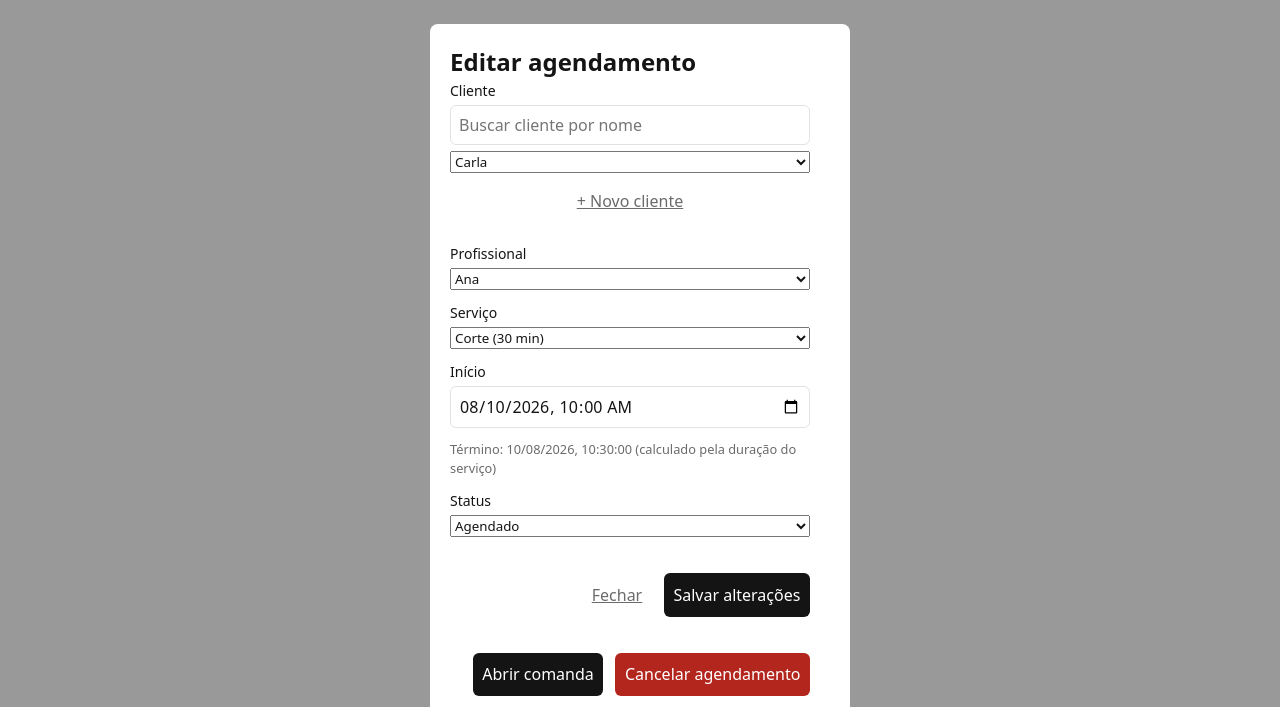
it: AppointmentModal › maps a version_conflict response to a Portuguese message
Select "Confirmado" in the dropdown labelled "Status" at (630, 526), box [450, 515, 810, 537]
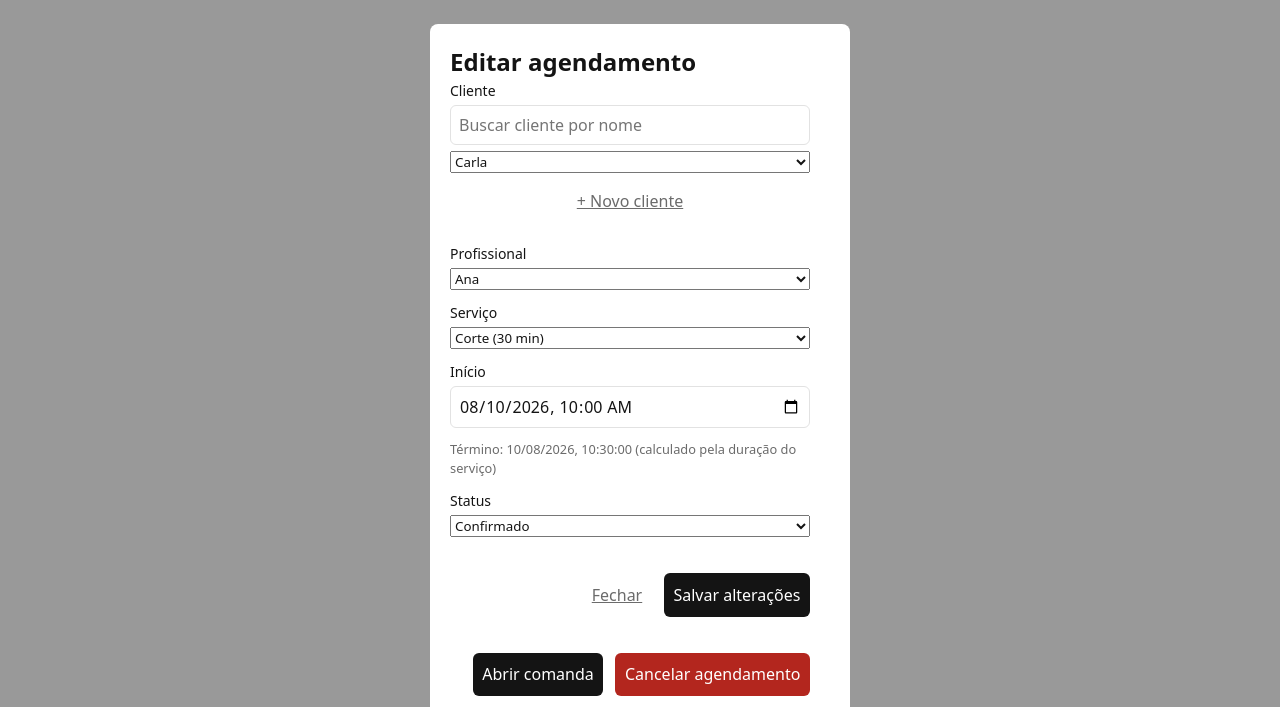
Click the button "Salvar alterações" at (737, 595), box [664, 573, 810, 616]
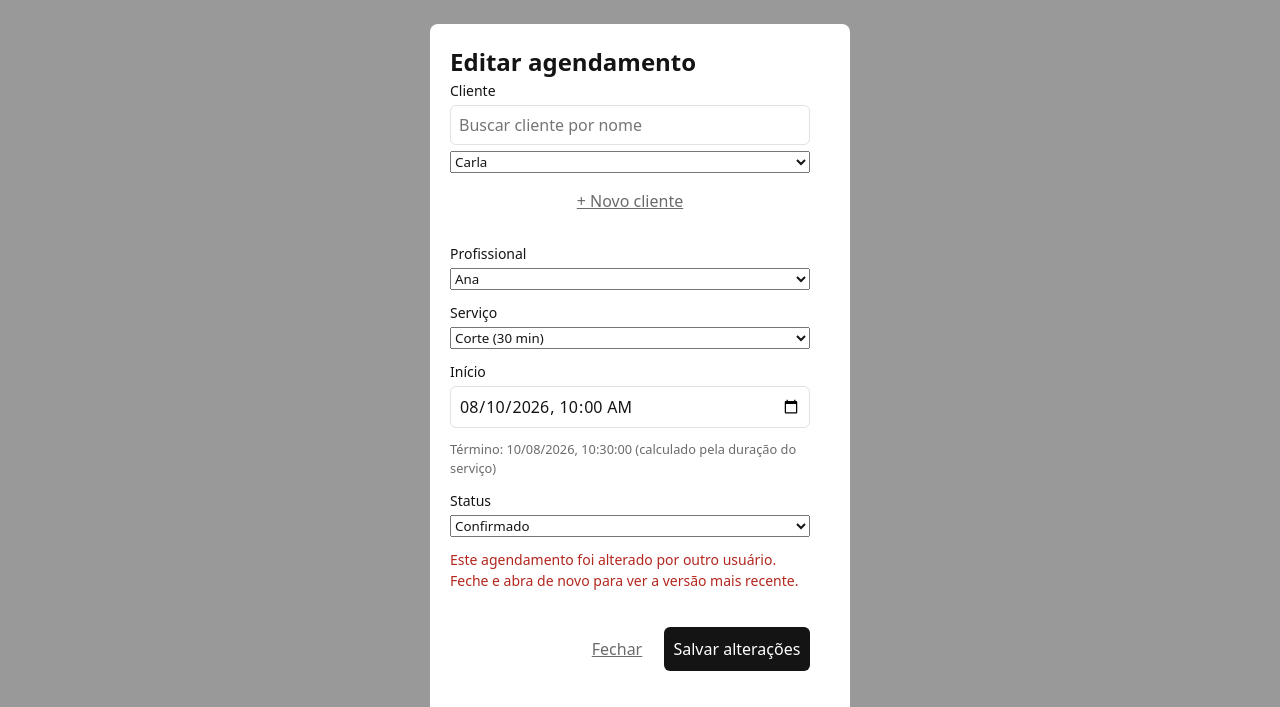
Expected: the text "Este agendamento foi alterado por outro usuário. Feche e abra de novo para ver a versão mais recente." is shown, [450, 550, 798, 590]
